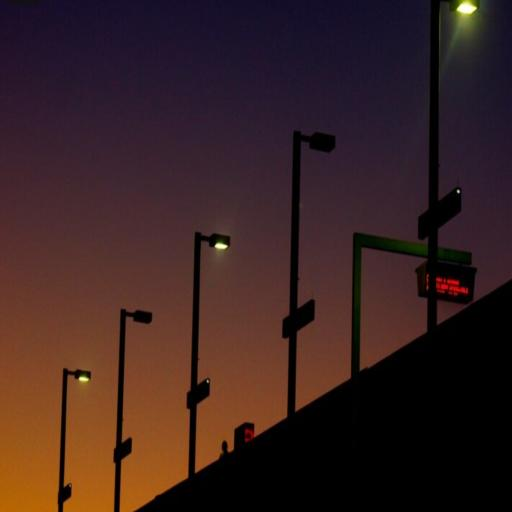off street light: (280, 112, 337, 423), (110, 291, 162, 512)
on street light: (415, 0, 481, 333), (182, 218, 230, 478), (58, 348, 94, 512)
